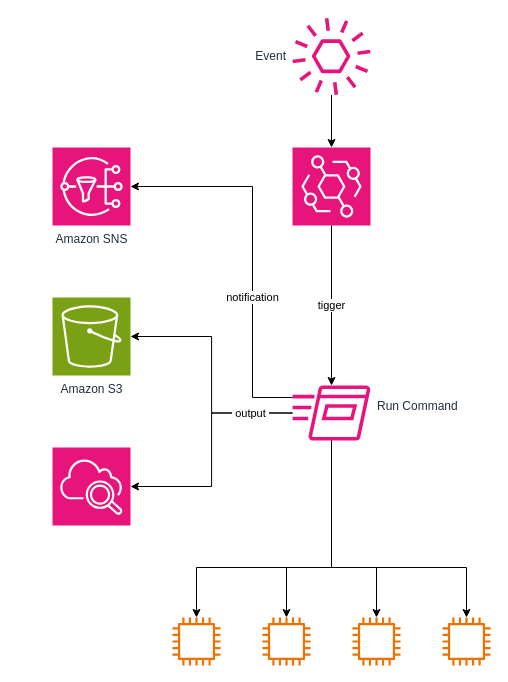
This 508x682 diagram has some shape labels left out. Here are the shapes that lost their labels. From the top down, the centre of each, then its label:
point 331,186: Amazon EventBridge
point 91,486: Amazon CloudWatch - Logs
